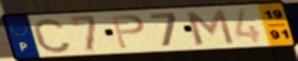4: (233, 8, 264, 44)
7: (147, 11, 181, 49), (68, 13, 98, 54)
C: (30, 16, 74, 54)
M: (182, 8, 238, 46)
P: (108, 14, 146, 50)
